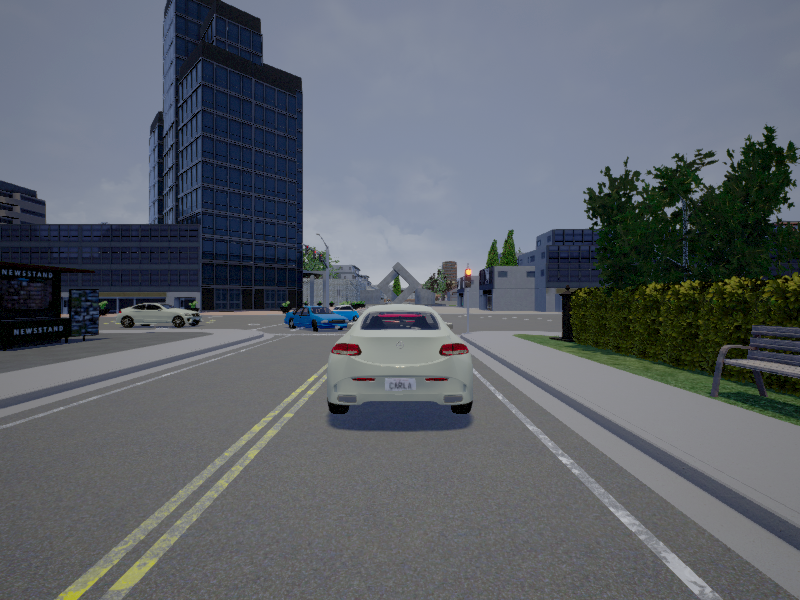Benign: (331, 305, 474, 415), (117, 301, 201, 331), (284, 308, 346, 332)
